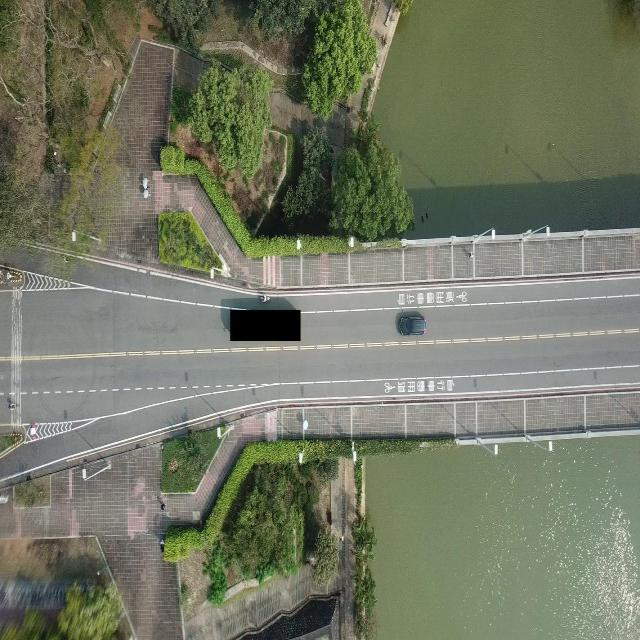car: (396, 312, 426, 335)
